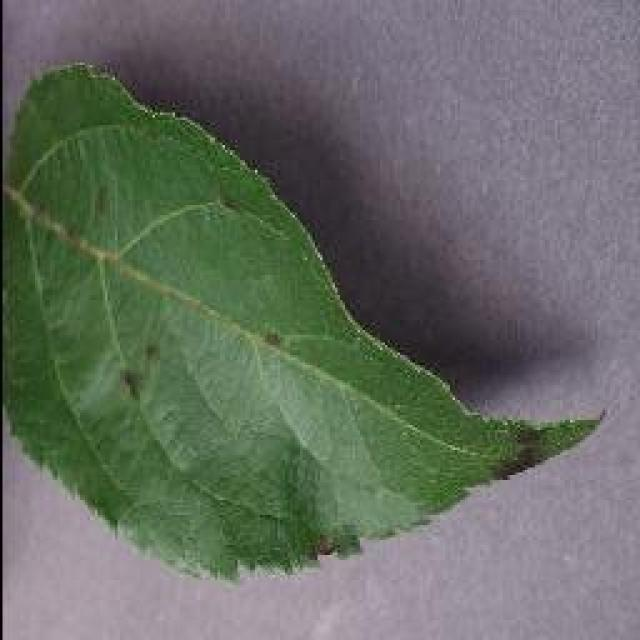apple scab disease: (0, 58, 605, 582)
